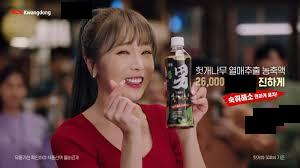heotgaecha: (164, 37, 196, 129)
